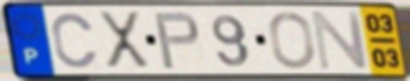9: (209, 12, 251, 68)
C: (49, 11, 100, 71)
N: (309, 8, 372, 72)
O: (267, 10, 318, 71)
P: (151, 10, 203, 71)
X: (96, 9, 153, 72)
